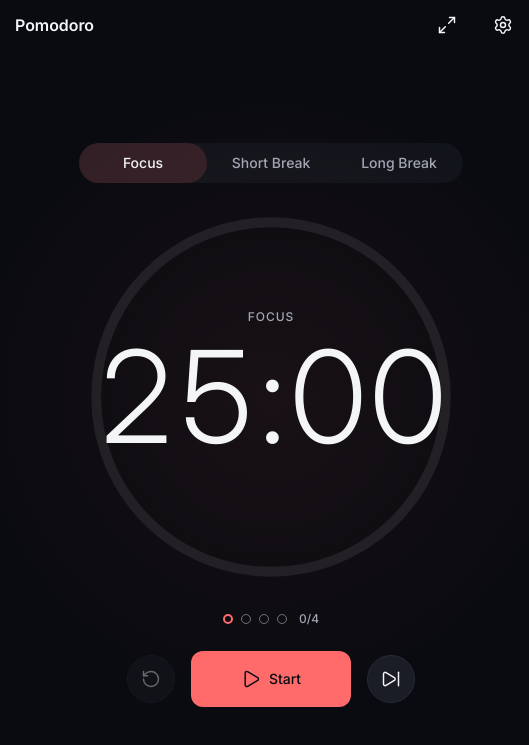
timer screen (POMO-M2) › Skip and Reset (POMO-AC5, POMO-AC6) › Reset is aria-disabled on a fresh phase and restores only the current phase otherwise
Click the button "Start" at (271,679), box [191,651,351,707]
Wait 5000 ms
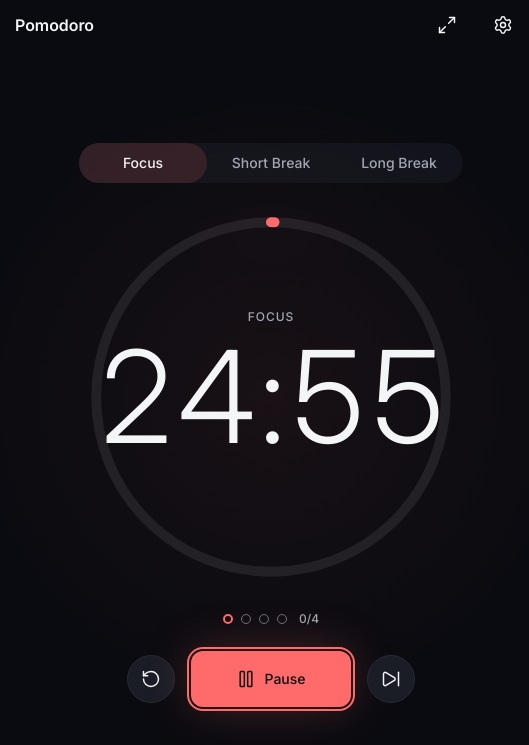
Check: the button named "Reset timer" does not have attribute aria-disabled
Click the button named "Reset timer" at (151,679), box [127,655,175,703]
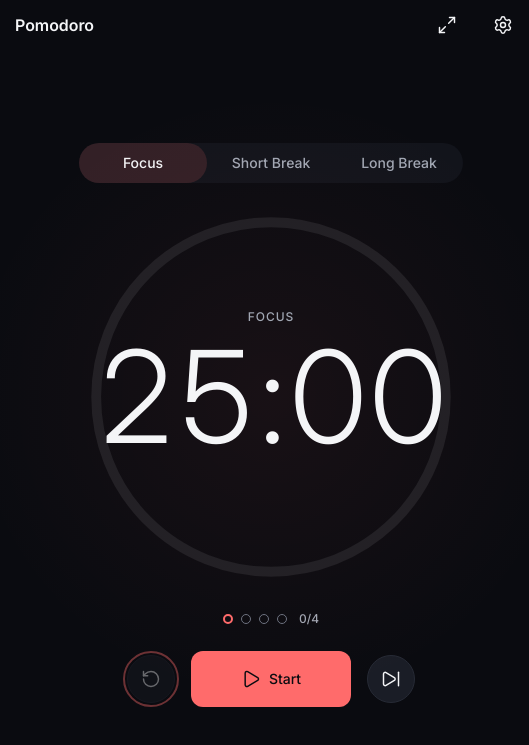
Check: the list item "Focus" is shown, box [79,143,207,183]
Check: the text "25:00" is shown, box [95,333,447,461]
Check: the button "Start" is shown, box [191,651,351,707]
